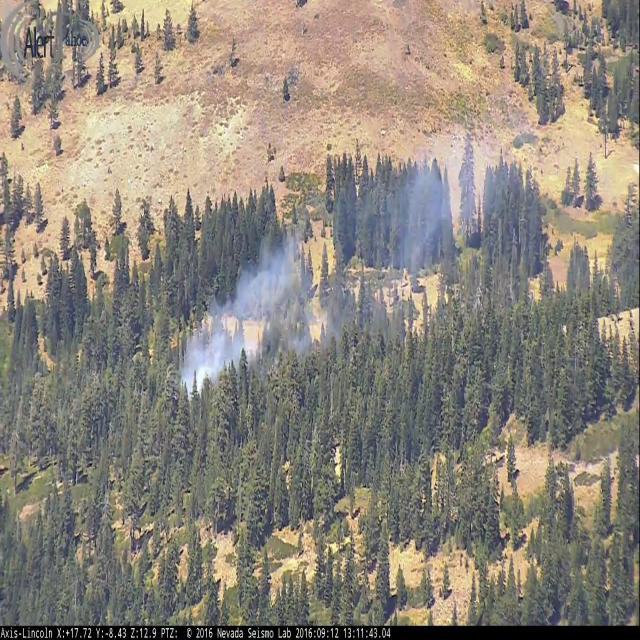smoke: (180, 111, 534, 396)
